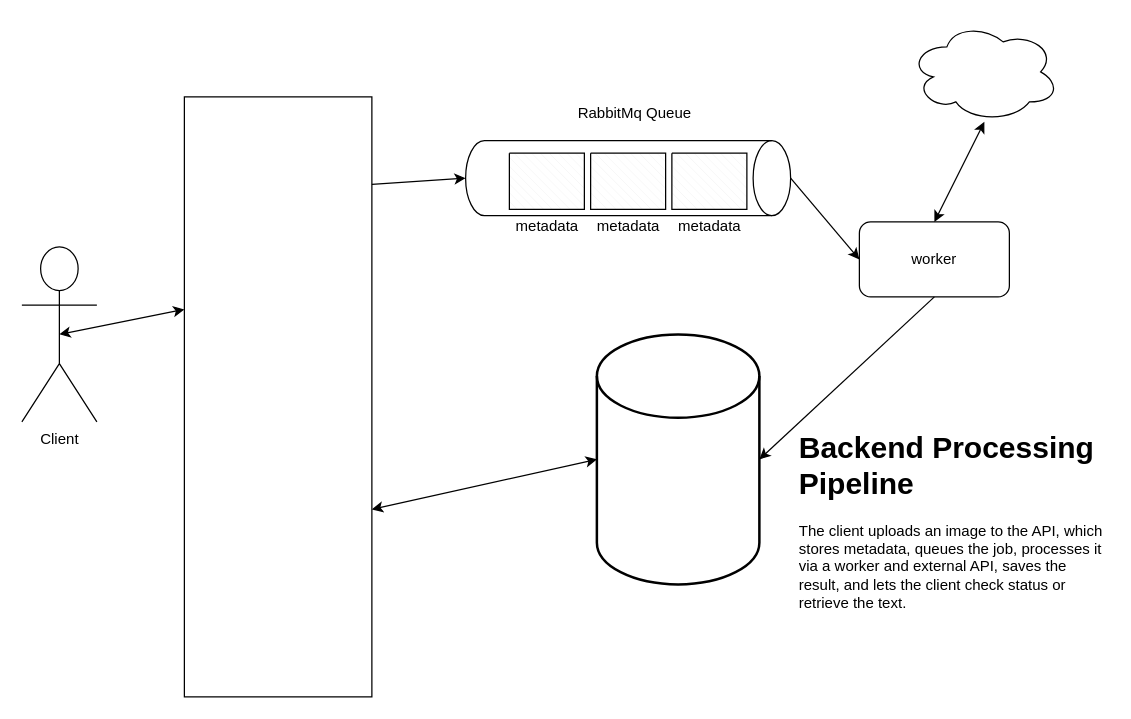
Some shapes in this 1131 by 719 pixel diagram are drawn without their labels. The box of each missing label's shape, as (x1, y1, x2, y2) in pixels:
External API API Ninja: (908, 21, 1059, 122)
FastApi: (183, 96, 372, 697)
Sqlite DB: (595, 332, 760, 585)
